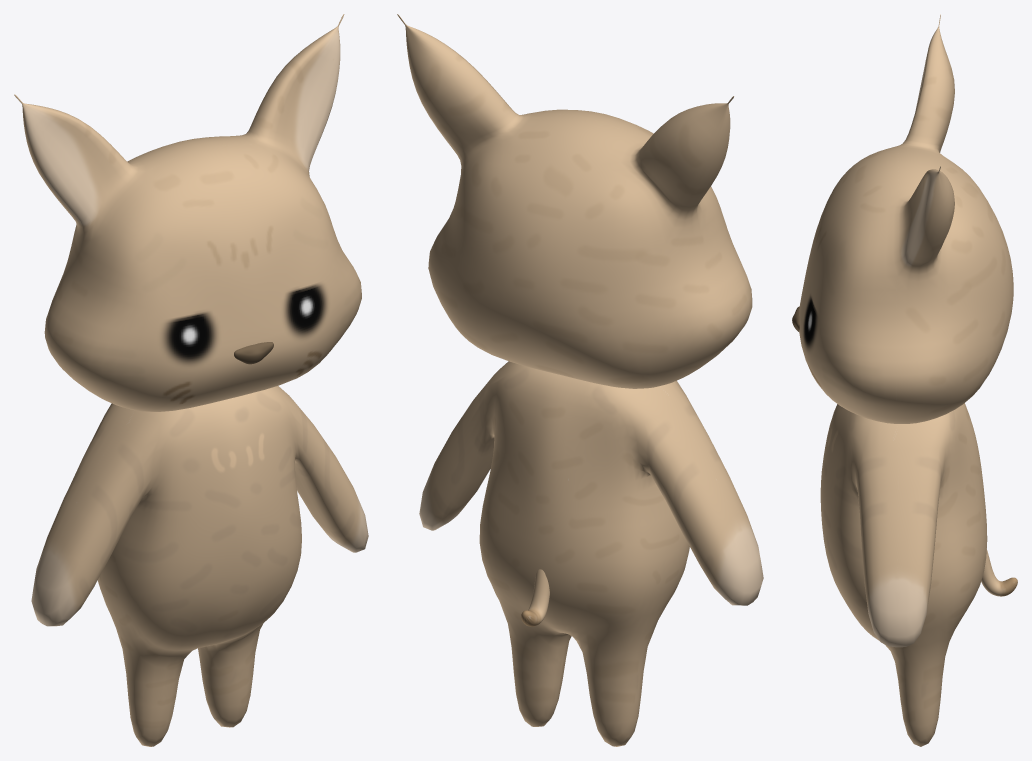
The model's file is bobcat.fbx.
The picture shows the model from 3 angles, left to right: view 1: azimuth 30°, elevation 25°; view 2: azimuth 150°, elevation 25°; view 3: azimuth 270°, elevation 25°; orthographic projection. The views are drawn at different scales.
Visible parts, largest first — view 1: Roundcube.009, Roundcube.010, Roundcube.011; view 2: Roundcube.009, Roundcube.010, Vert.003; view 3: Roundcube.009, Roundcube.010, Vert.003.
Part boxes in pixels (x1,y1,x2,y2): Roundcube.009: [14, 14, 361, 411]; Roundcube.010: [31, 386, 368, 746]; Roundcube.011: [234, 342, 273, 364]; Roundcube.009: [397, 14, 752, 388]; Roundcube.010: [419, 361, 763, 746]; Vert.003: [521, 569, 549, 626]; Roundcube.009: [799, 14, 1013, 423]; Roundcube.010: [820, 403, 987, 746]; Vert.003: [981, 549, 1017, 596].
Bounding box in the file's own units: 76.27 × 149 × 47.8.
2 materials, 1 textured.
